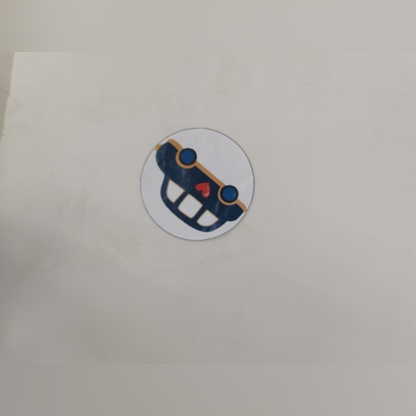car: (144, 134, 245, 242)
